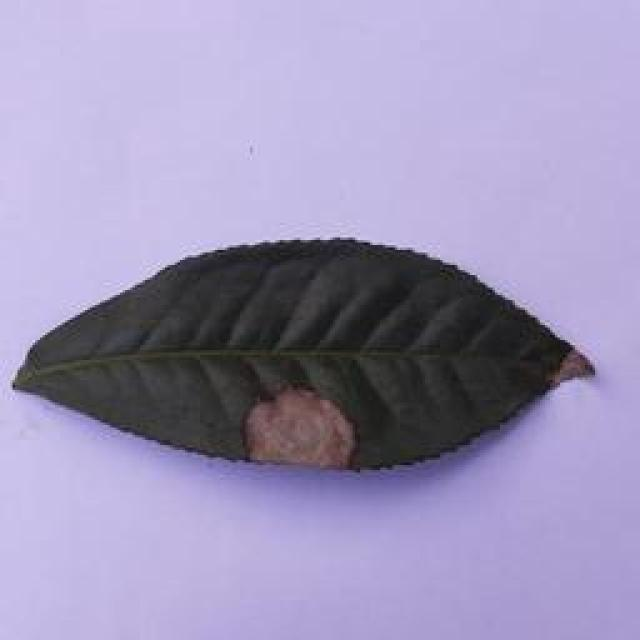Gray Blight: (6, 232, 597, 478)
